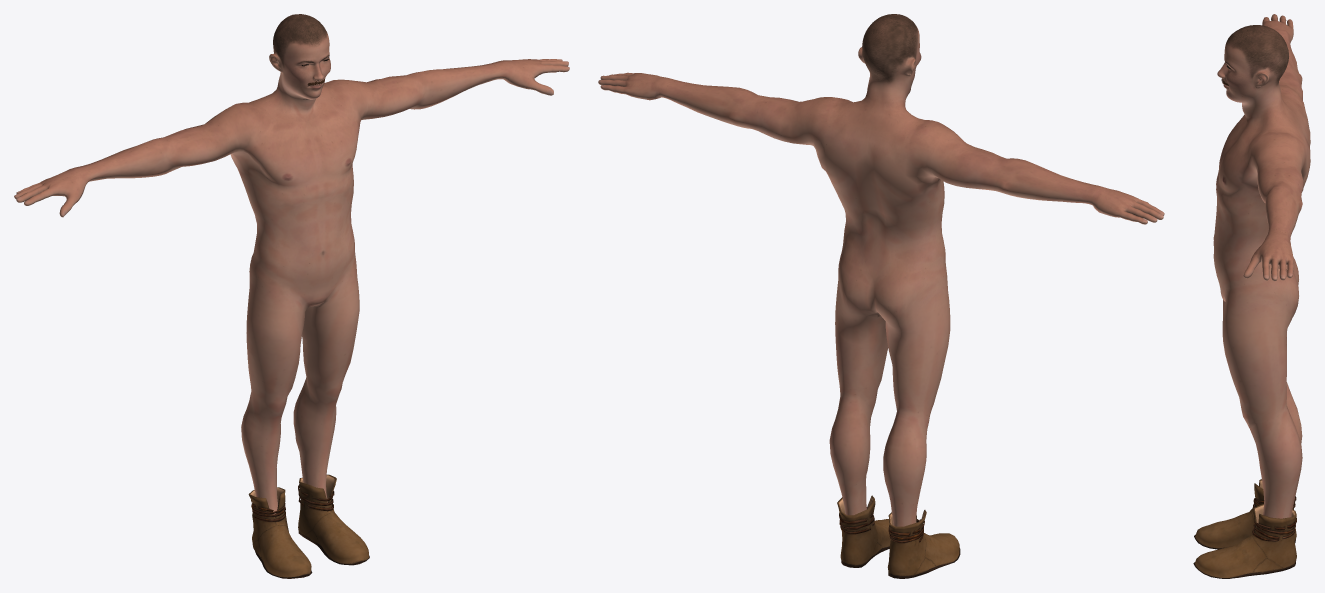
The model's file is ottomansoldier7.obj.
3 renders of one model, left to right at view 1: azimuth 30°, elevation 25°; view 2: azimuth 150°, elevation 25°; view 3: azimuth 270°, elevation 25°, orthographic. The views are drawn at different scales.
Visible parts, largest first — view 1: Body, Shoes; view 2: Body, Shoes; view 3: Body, Shoes.
Part boxes in pixels (x1,y1,x2,y2): Body: (14, 14, 569, 514); Shoes: (248, 474, 369, 578); Body: (598, 14, 1164, 526); Shoes: (837, 495, 960, 578); Body: (1213, 14, 1310, 518); Shoes: (1193, 479, 1296, 578).
Bounding box in the file's own units: 194 × 180 × 35.97.
1 material, 1 textured.
